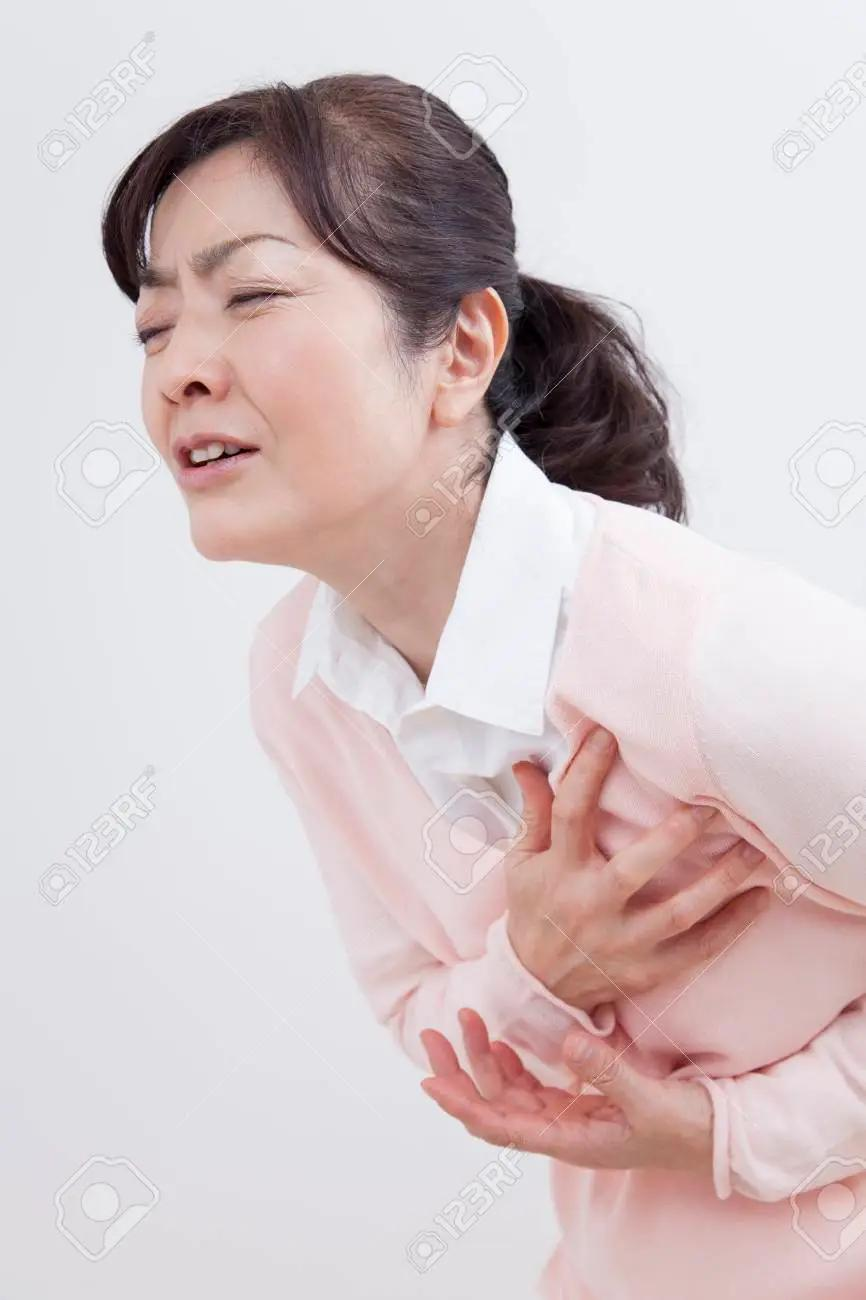pain: (108, 220, 337, 354)
